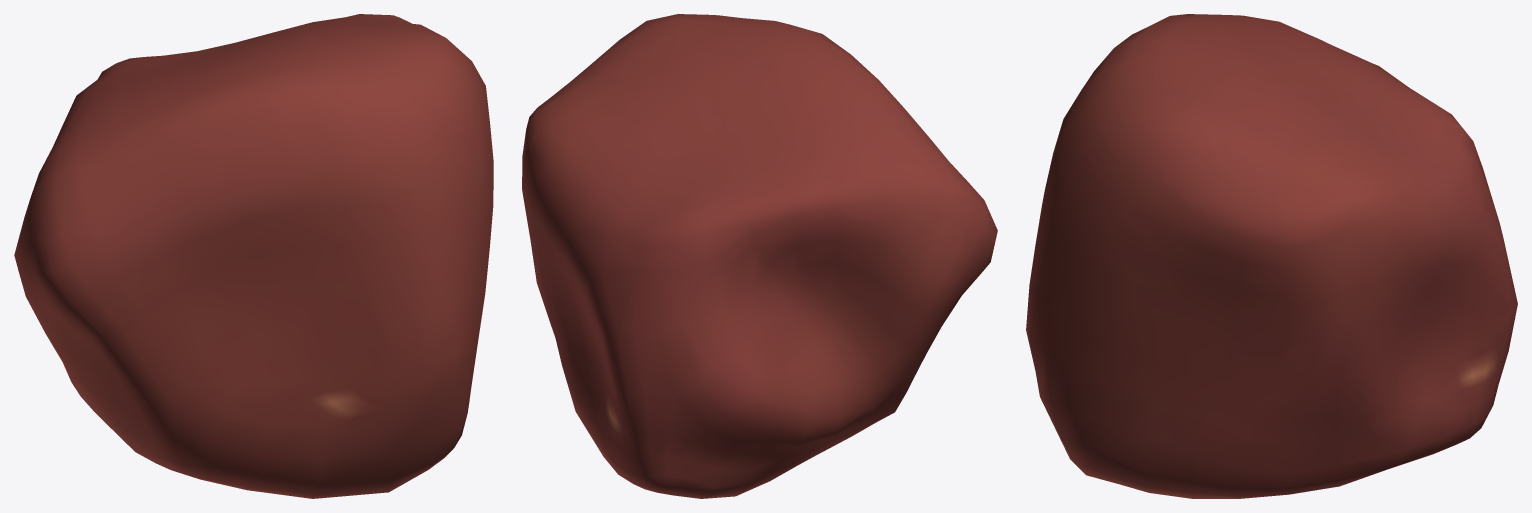
The model's file is Stone_Model_Zone3.fbx.
3 renders of one model, left to right at view 1: azimuth 30°, elevation 25°; view 2: azimuth 150°, elevation 25°; view 3: azimuth 270°, elevation 25°, orthographic. The views are drawn at different scales.
Visible parts, largest first — view 1: Object001; view 2: Object001; view 3: Object001.
Part boxes in pixels (<box>): Object001: <box>14,14,493,498</box>; Object001: <box>522,14,997,498</box>; Object001: <box>1026,14,1517,498</box>.
Size of the model in its own units: 186 by 163 by 174.
